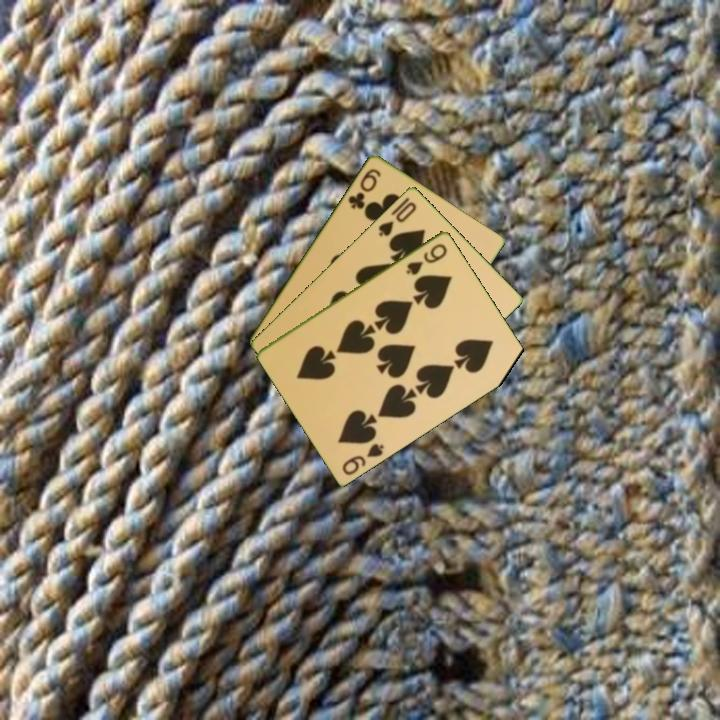10s: (375, 198, 420, 239)
6c: (344, 164, 384, 212)
9s: (338, 439, 387, 478), (402, 239, 450, 278)
